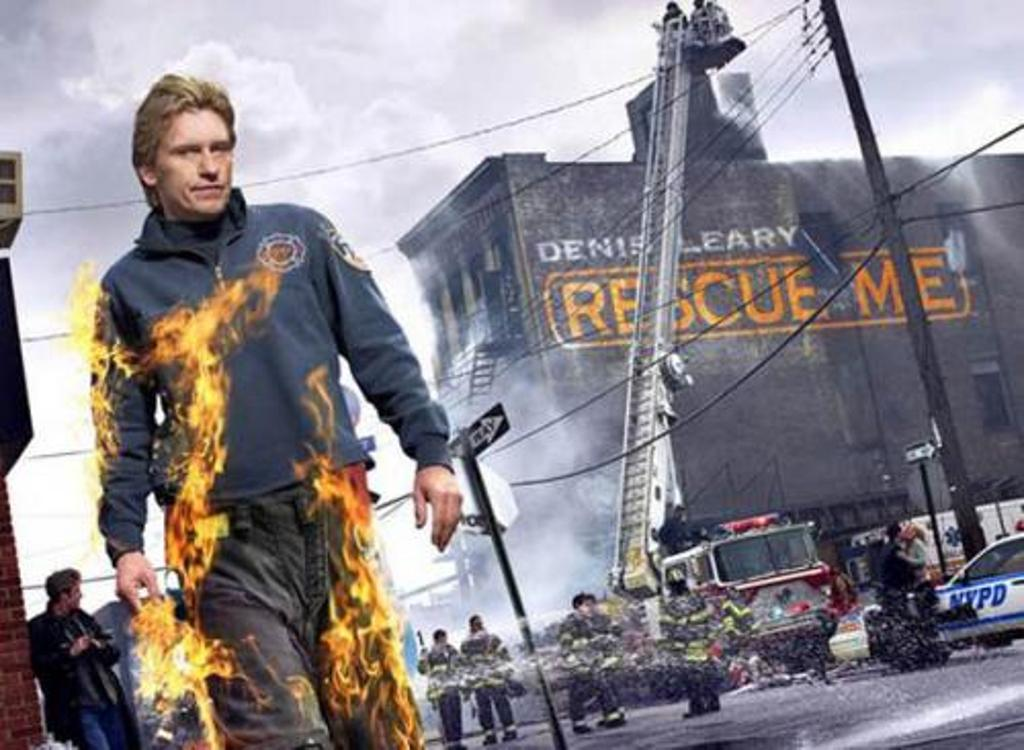face: (157, 109, 229, 211)
